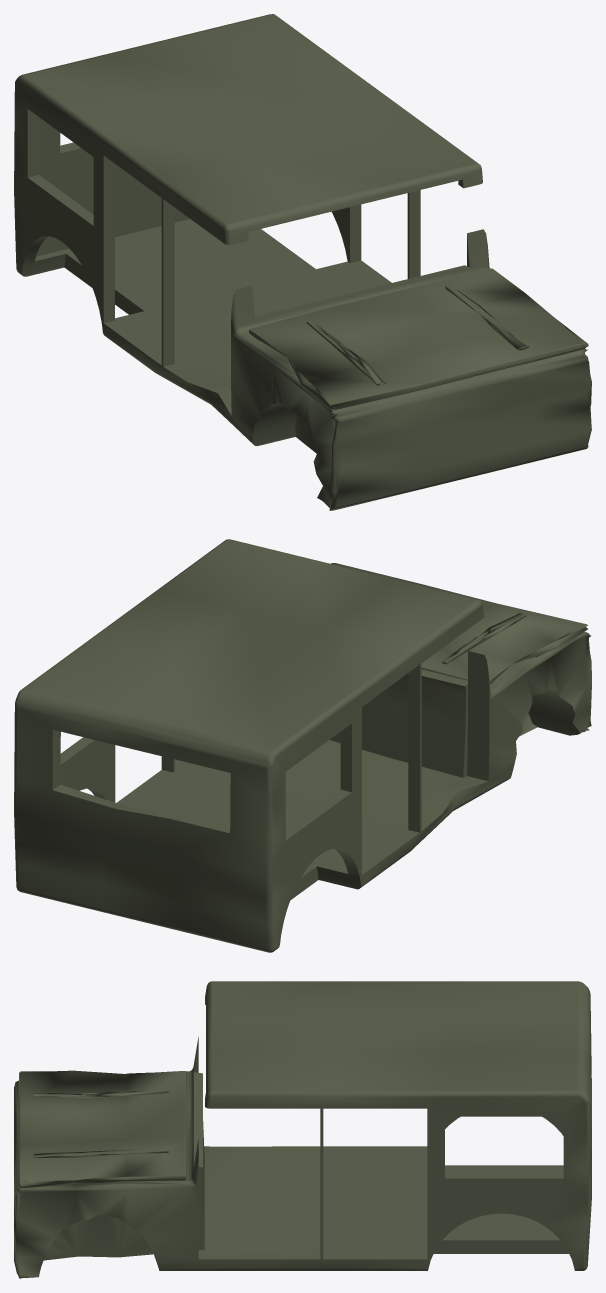
Rendered from Car_Damage_Wrecked.fbx.
3 views of the same model, one above another, from view 1: azimuth 30°, elevation 25°; view 2: azimuth 150°, elevation 25°; view 3: azimuth 270°, elevation 25° (orthographic). The views are drawn at different scales.
Parts seen in each view (by area): view 1: SM_Jeep_Body.001, SM_Jeep_Hood.001; view 2: SM_Jeep_Body.001, SM_Jeep_Hood.001; view 3: SM_Jeep_Body.001, SM_Jeep_Hood.001.
Boxes of the visible parts, <box> form: SM_Jeep_Body.001: <box>14,14,591,510</box>; SM_Jeep_Hood.001: <box>249,268,588,409</box>; SM_Jeep_Body.001: <box>14,539,591,952</box>; SM_Jeep_Hood.001: <box>331,563,587,684</box>; SM_Jeep_Body.001: <box>14,981,591,1278</box>; SM_Jeep_Hood.001: <box>19,1070,186,1187</box>.
Size of the model in its own units: 1.85 by 1.39 by 3.89.
